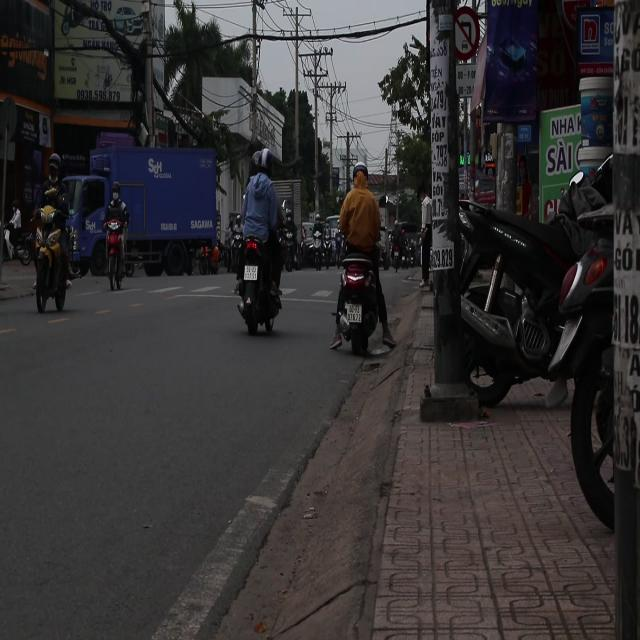motorbike: (336, 257, 380, 365), (29, 212, 75, 314), (238, 234, 280, 340), (101, 206, 131, 291), (280, 224, 302, 272), (306, 231, 326, 270)
truck: (87, 146, 221, 282)
